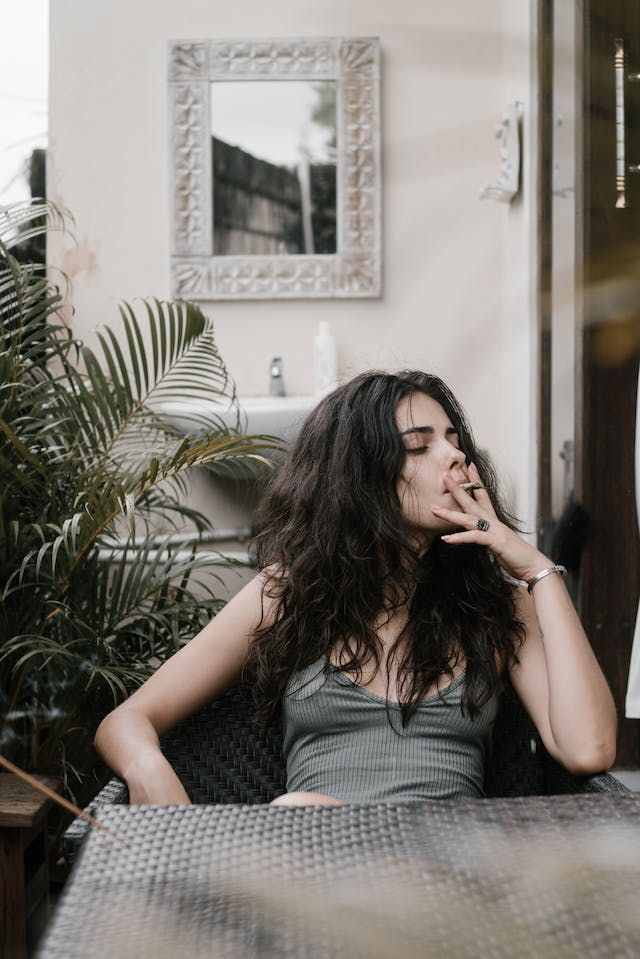Cigarette: (458, 481, 484, 491)
